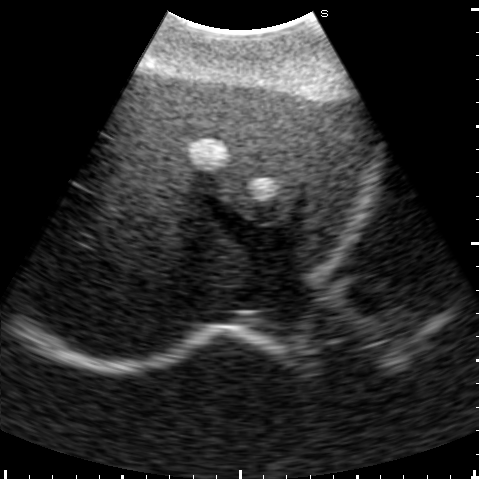S2: (299, 116, 372, 272)
